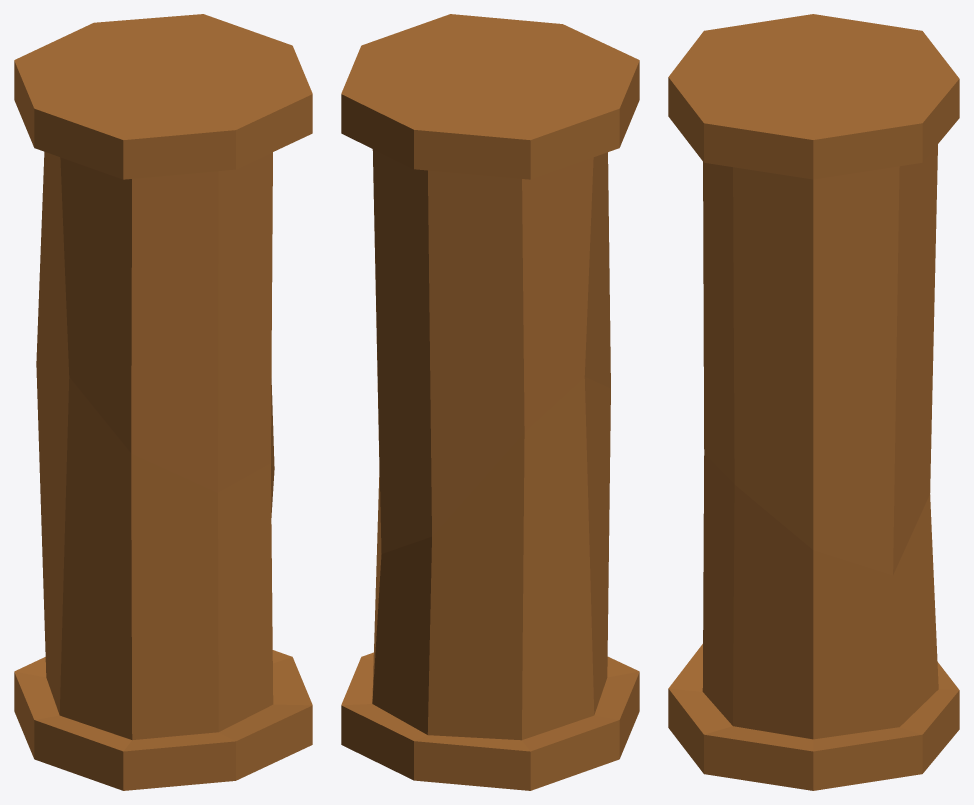
File: Pipe_Short.fbx
The picture shows the model from 3 angles, left to right: view 1: azimuth 30°, elevation 25°; view 2: azimuth 150°, elevation 25°; view 3: azimuth 270°, elevation 25°; orthographic projection.
Visible parts, largest first — view 1: Pipe_Short; view 2: Pipe_Short; view 3: Pipe_Short.
Boxes of the visible parts, x1,y1,x2,y2 form: Pipe_Short: (14, 14, 312, 790); Pipe_Short: (341, 14, 639, 790); Pipe_Short: (668, 14, 959, 790).
Bounding box in the file's own units: 250 × 602 × 244.
